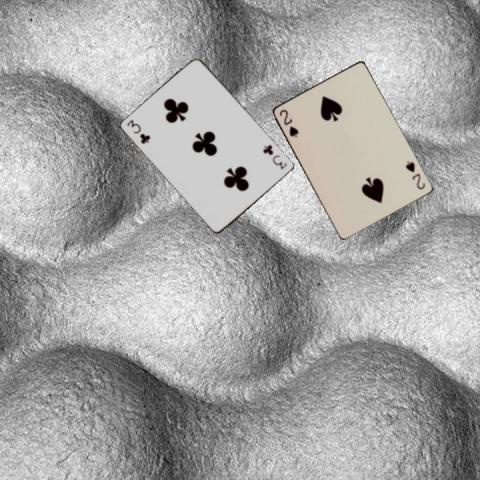2s: (276, 106, 300, 139), (402, 158, 426, 191)
3c: (260, 141, 289, 171), (124, 117, 151, 145)
